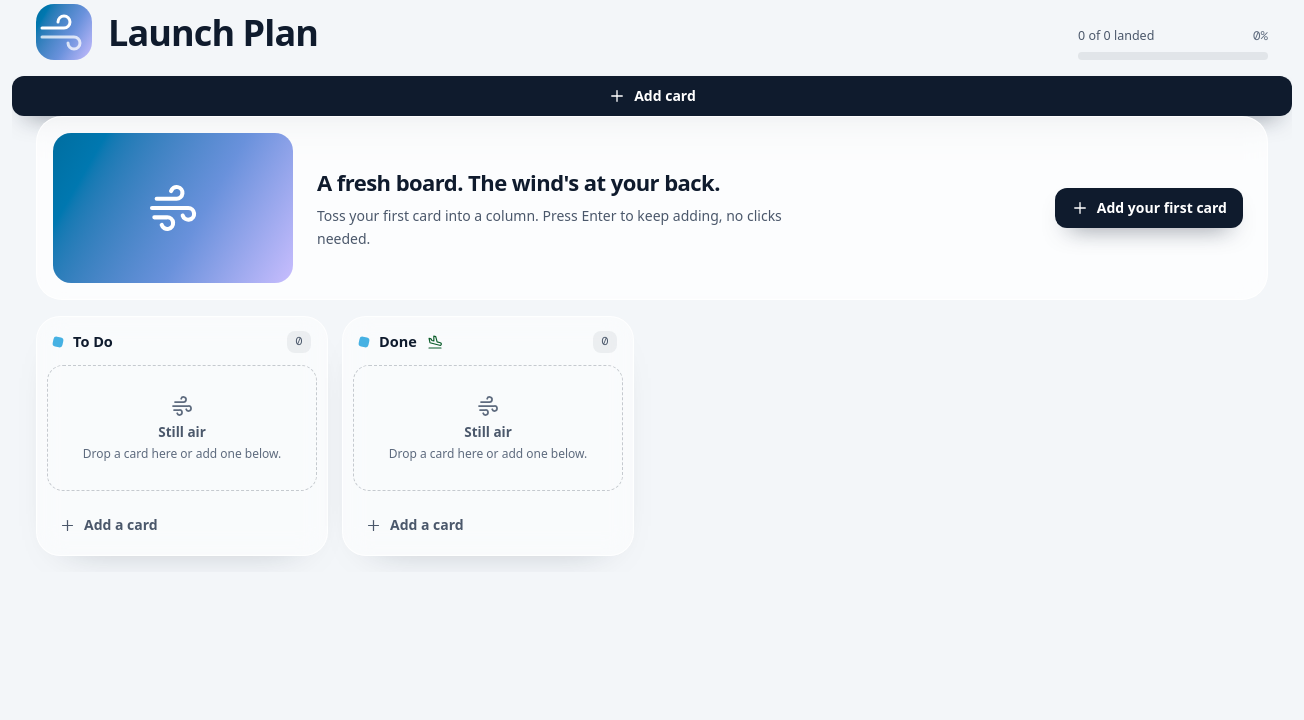
Test: Board page adding and saving a task › from a column composer › puts the new card in its column at once, without a refetch
Step 1. Click the button "Add a card" below "To Do" → (121, 525), box x1=47 y1=505 x2=317 y2=545
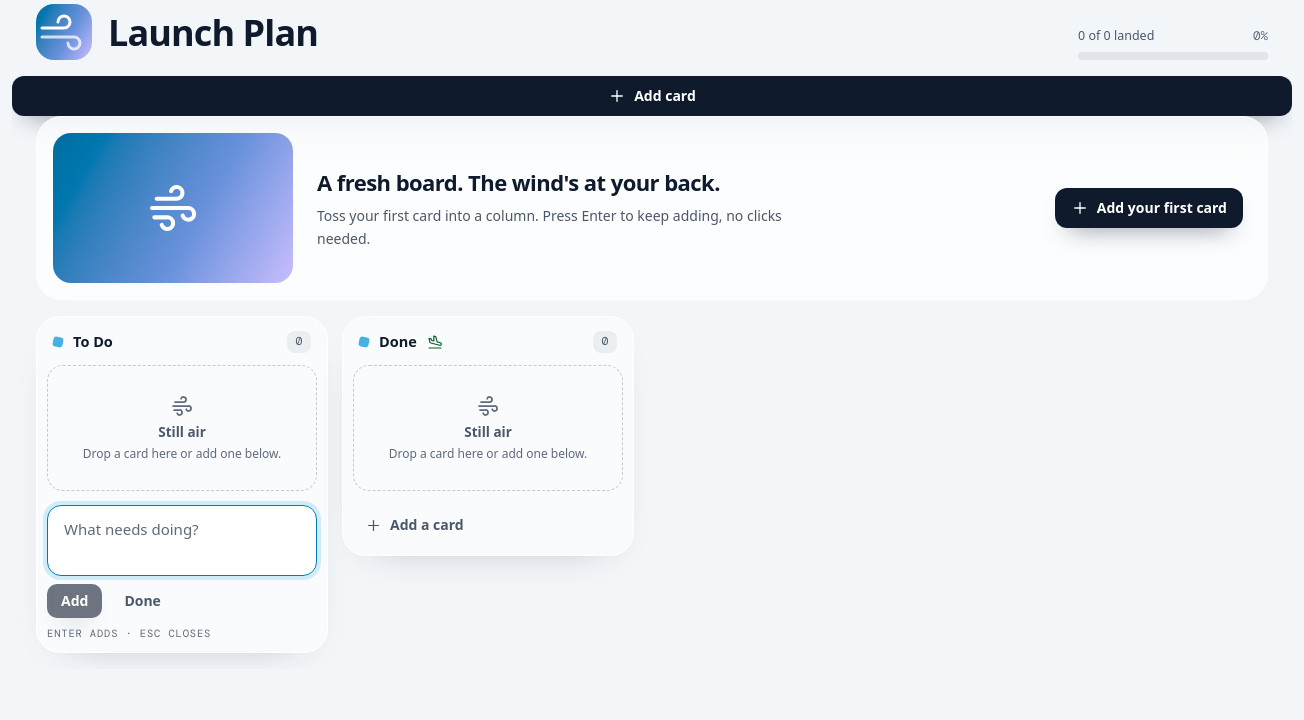
Step 2. Type "Pack the stove" into the text box named "new card in To Do" → (182, 541), box x1=47 y1=505 x2=317 y2=576
Then press Enter
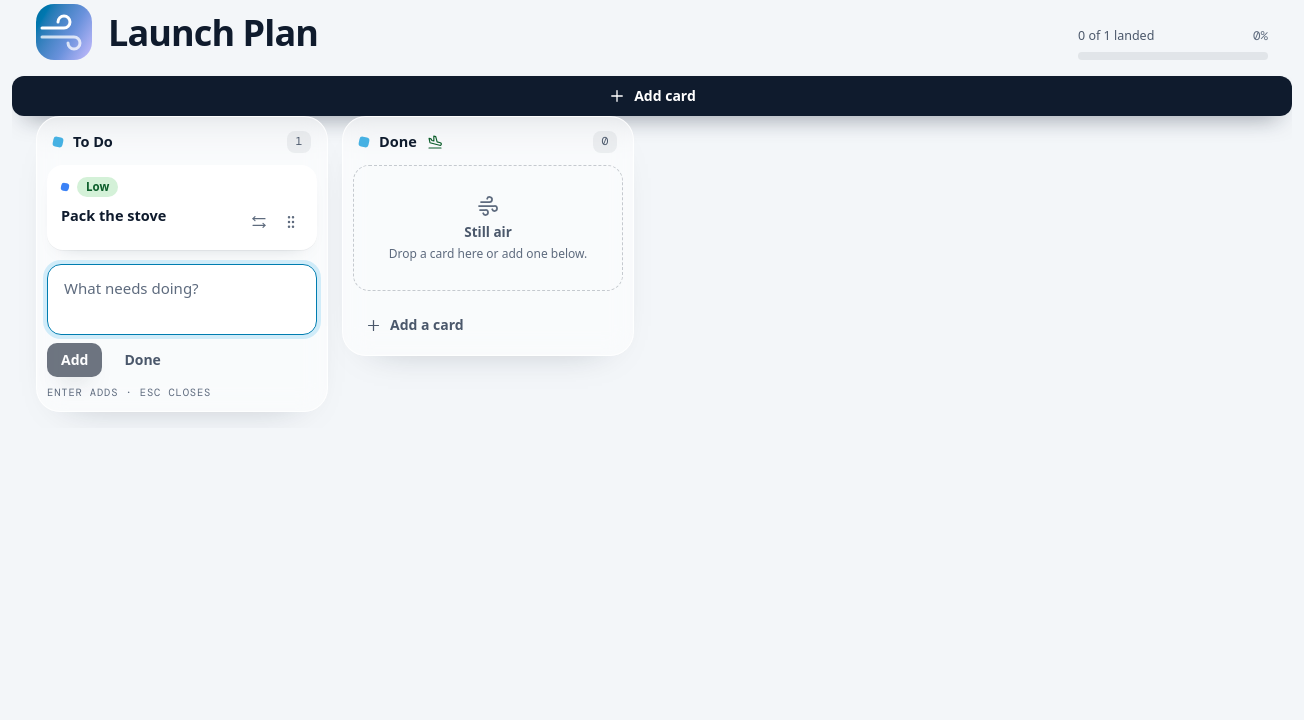
Check: the button "Pack the stove" is shown, box x1=59 y1=204 x2=168 y2=228
